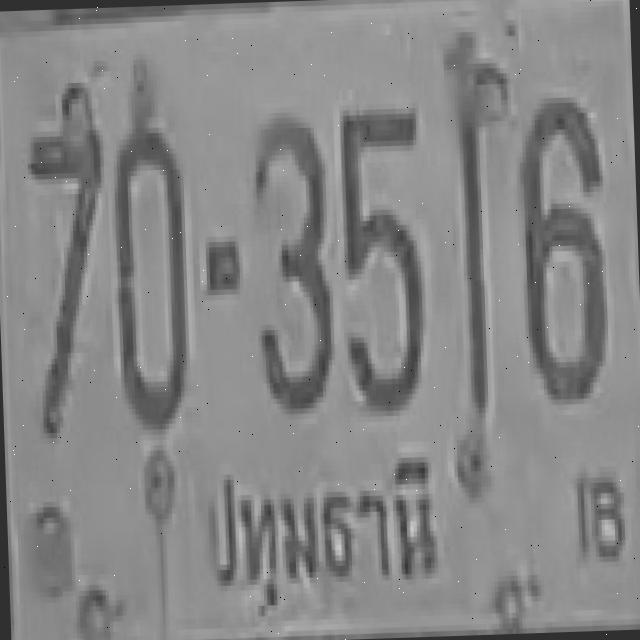0: (108, 108, 188, 428)
1: (444, 113, 494, 414)
3: (247, 108, 333, 412)
5: (336, 102, 426, 412)
6: (515, 90, 608, 400)
7: (24, 106, 111, 436)
PathumThani: (182, 428, 462, 608)
